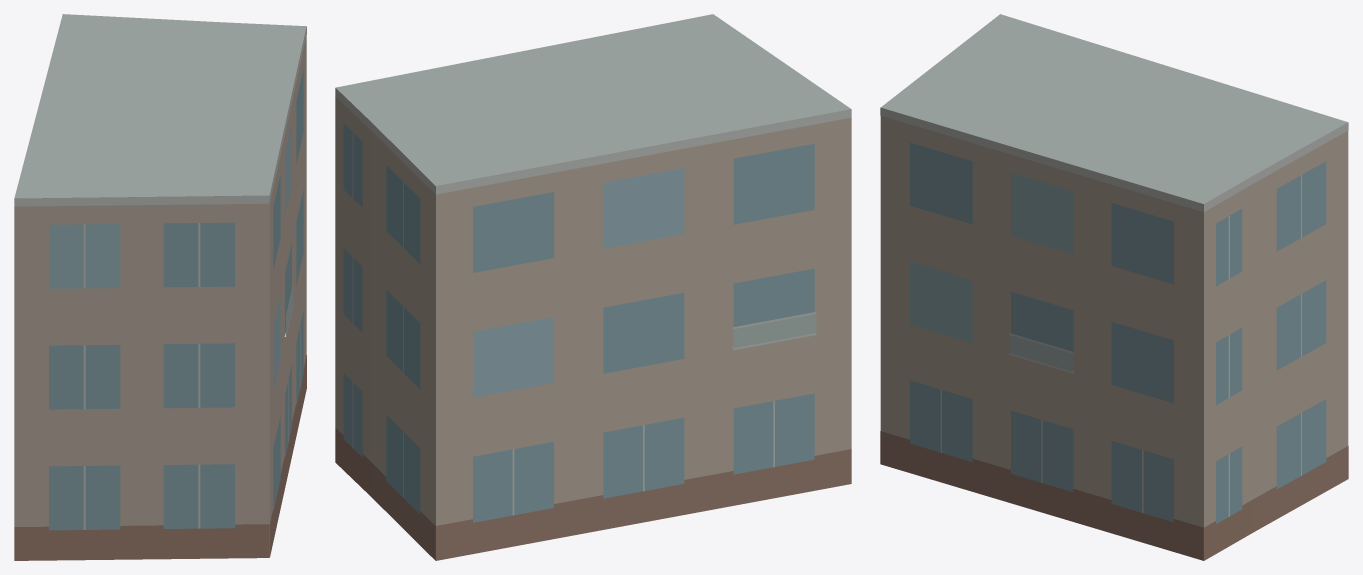
Rendered from survey-upis-32473709.glb.
The picture shows the model from 3 angles, left to right: view 1: azimuth 30°, elevation 25°; view 2: azimuth 150°, elevation 25°; view 3: azimuth 270°, elevation 25°; orthographic projection. The views are drawn at different scales.
Visible parts, largest first — view 1: survey-upis-32473709.tmp; view 2: survey-upis-32473709.tmp; view 3: survey-upis-32473709.tmp.
Boxes of the visible parts, x1,y1,x2,y2 form: survey-upis-32473709.tmp: (14, 14, 306, 560); survey-upis-32473709.tmp: (335, 14, 851, 560); survey-upis-32473709.tmp: (880, 14, 1348, 560).
Size of the model in its own units: 12.3 by 10.75 by 12.79.
